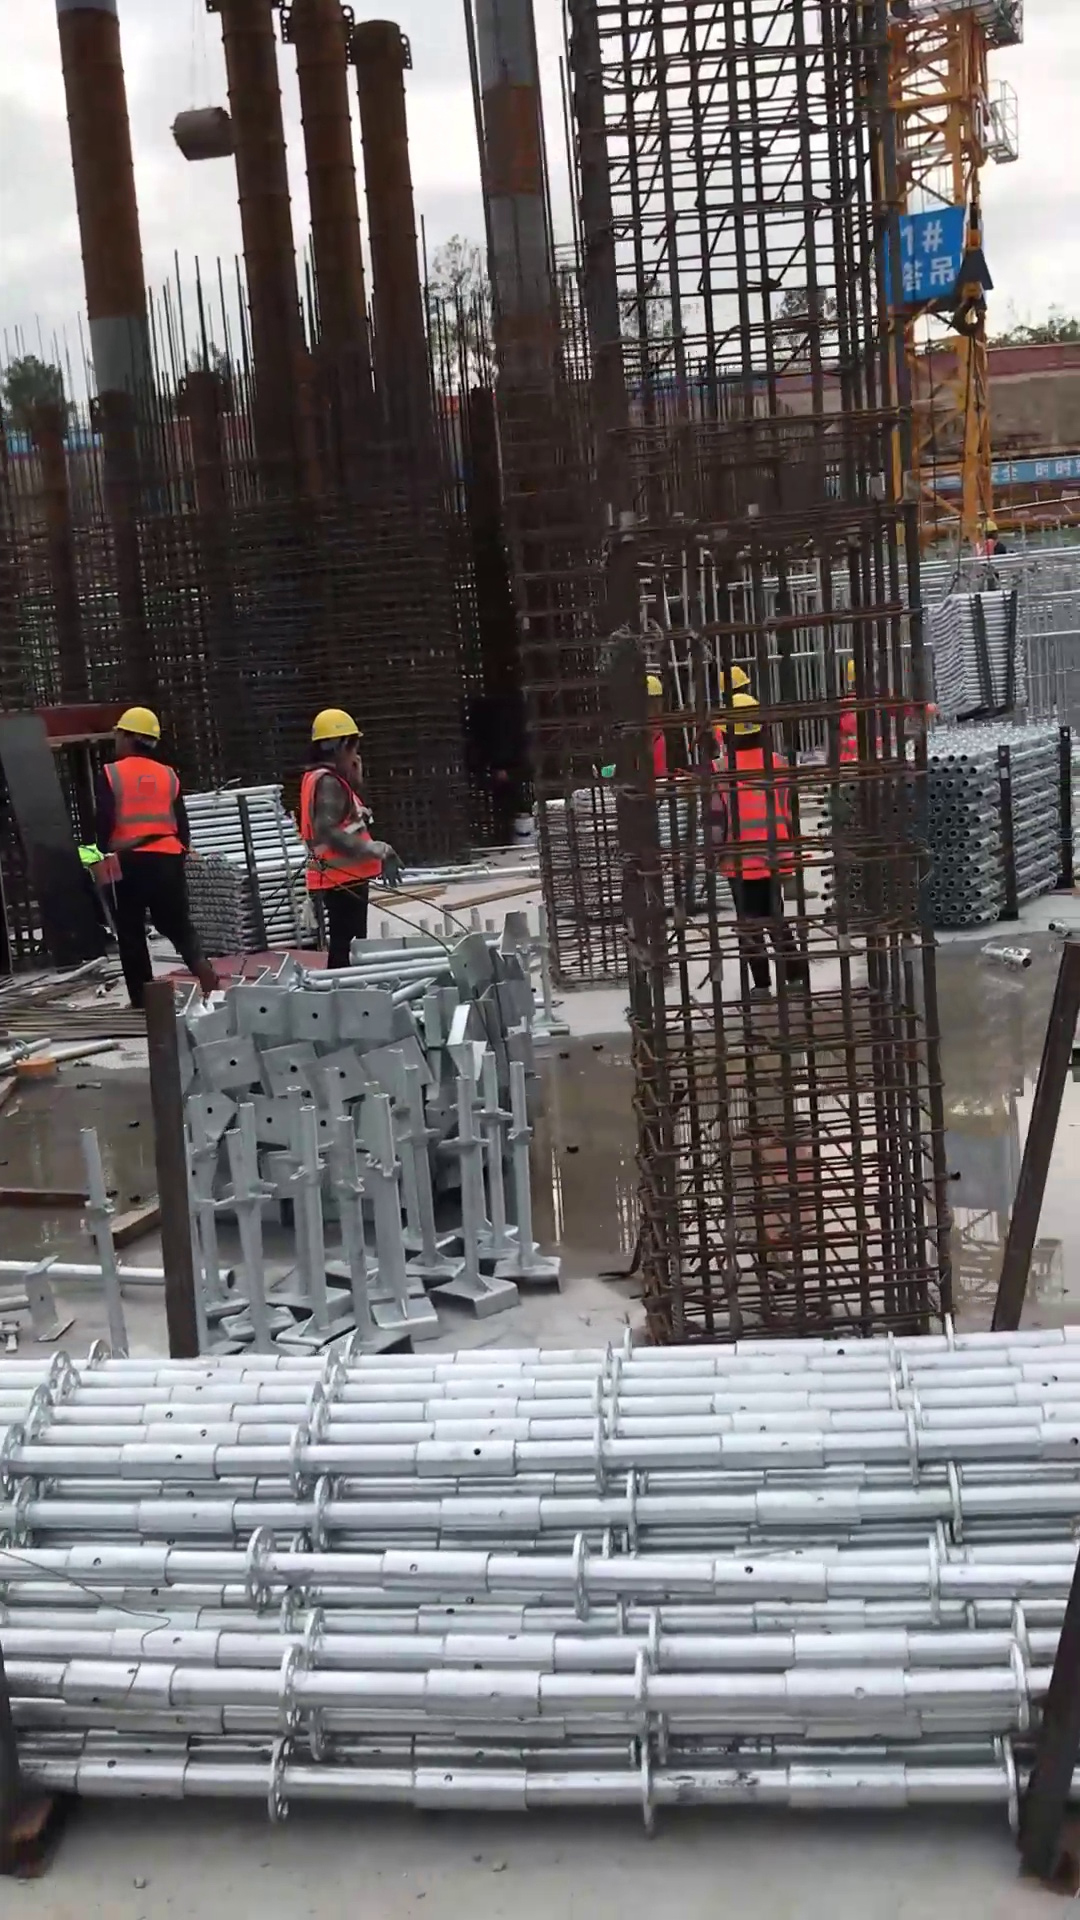helmet: (108, 695, 170, 748), (307, 700, 366, 752)
hook: (949, 194, 997, 346)
person: (86, 682, 232, 1024), (281, 690, 412, 987)
scaffold: (6, 1327, 1080, 1812), (885, 706, 1080, 931), (183, 772, 318, 953), (926, 565, 1035, 741)
vest: (295, 765, 387, 894), (97, 756, 197, 863)
